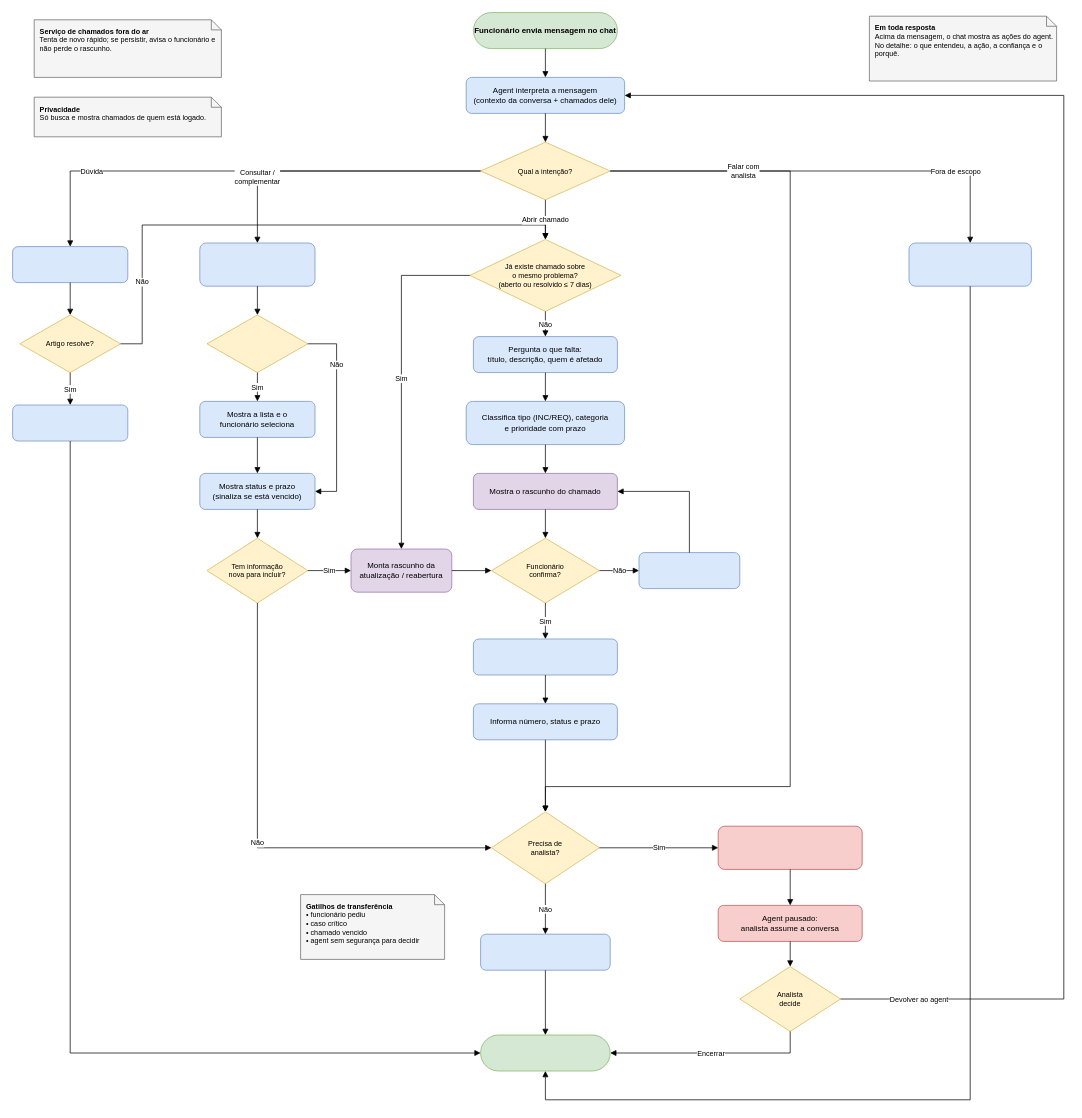
Image size: 1082x1118. Some labels were removed from this diagram. Here are the shapes that lost their labels. From the top down, the box of each, then its label:
(12, 246, 128, 283): Busca na central de ajuda
(199, 242, 315, 286): Busca os chamados do próprio funcionário
(908, 242, 1031, 286): Redireciona (RH, financeiro, facilities)
(206, 314, 308, 373): Mais de um chamado?
(12, 404, 128, 441): Responde com o artigo (sem abrir chamado)
(638, 552, 740, 589): Ajusta os dados com o funcionário
(473, 638, 617, 675): Cria / atualiza / reabre no serviço de chamados
(717, 825, 862, 869): Transfere com resumo do caso (status: aguardando atendente)
(480, 933, 610, 970): Responde ao funcionário
(480, 1034, 610, 1071): Fim do atendimento
